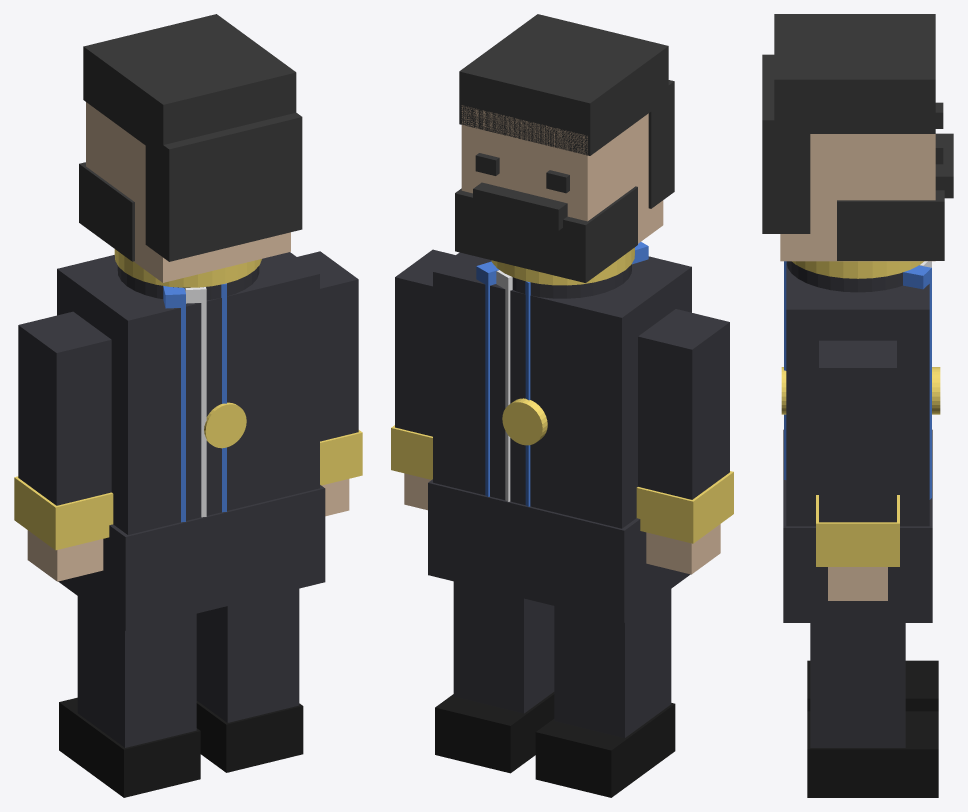
File: bukele.glb
3 views of the same model, side by side, from view 1: azimuth 30°, elevation 25°; view 2: azimuth 150°, elevation 25°; view 3: azimuth 270°, elevation 25° (orthographic). The views are drawn at different scales.
Visible parts, largest first — view 1: BukeleHero; view 2: BukeleHero; view 3: BukeleHero.
Part boxes in pixels (x1,y1,x2,y2): BukeleHero: [14, 14, 362, 797]; BukeleHero: [391, 14, 733, 797]; BukeleHero: [762, 14, 953, 797].
Size of the model in its own units: 1.2 by 2.61 by 0.64.
